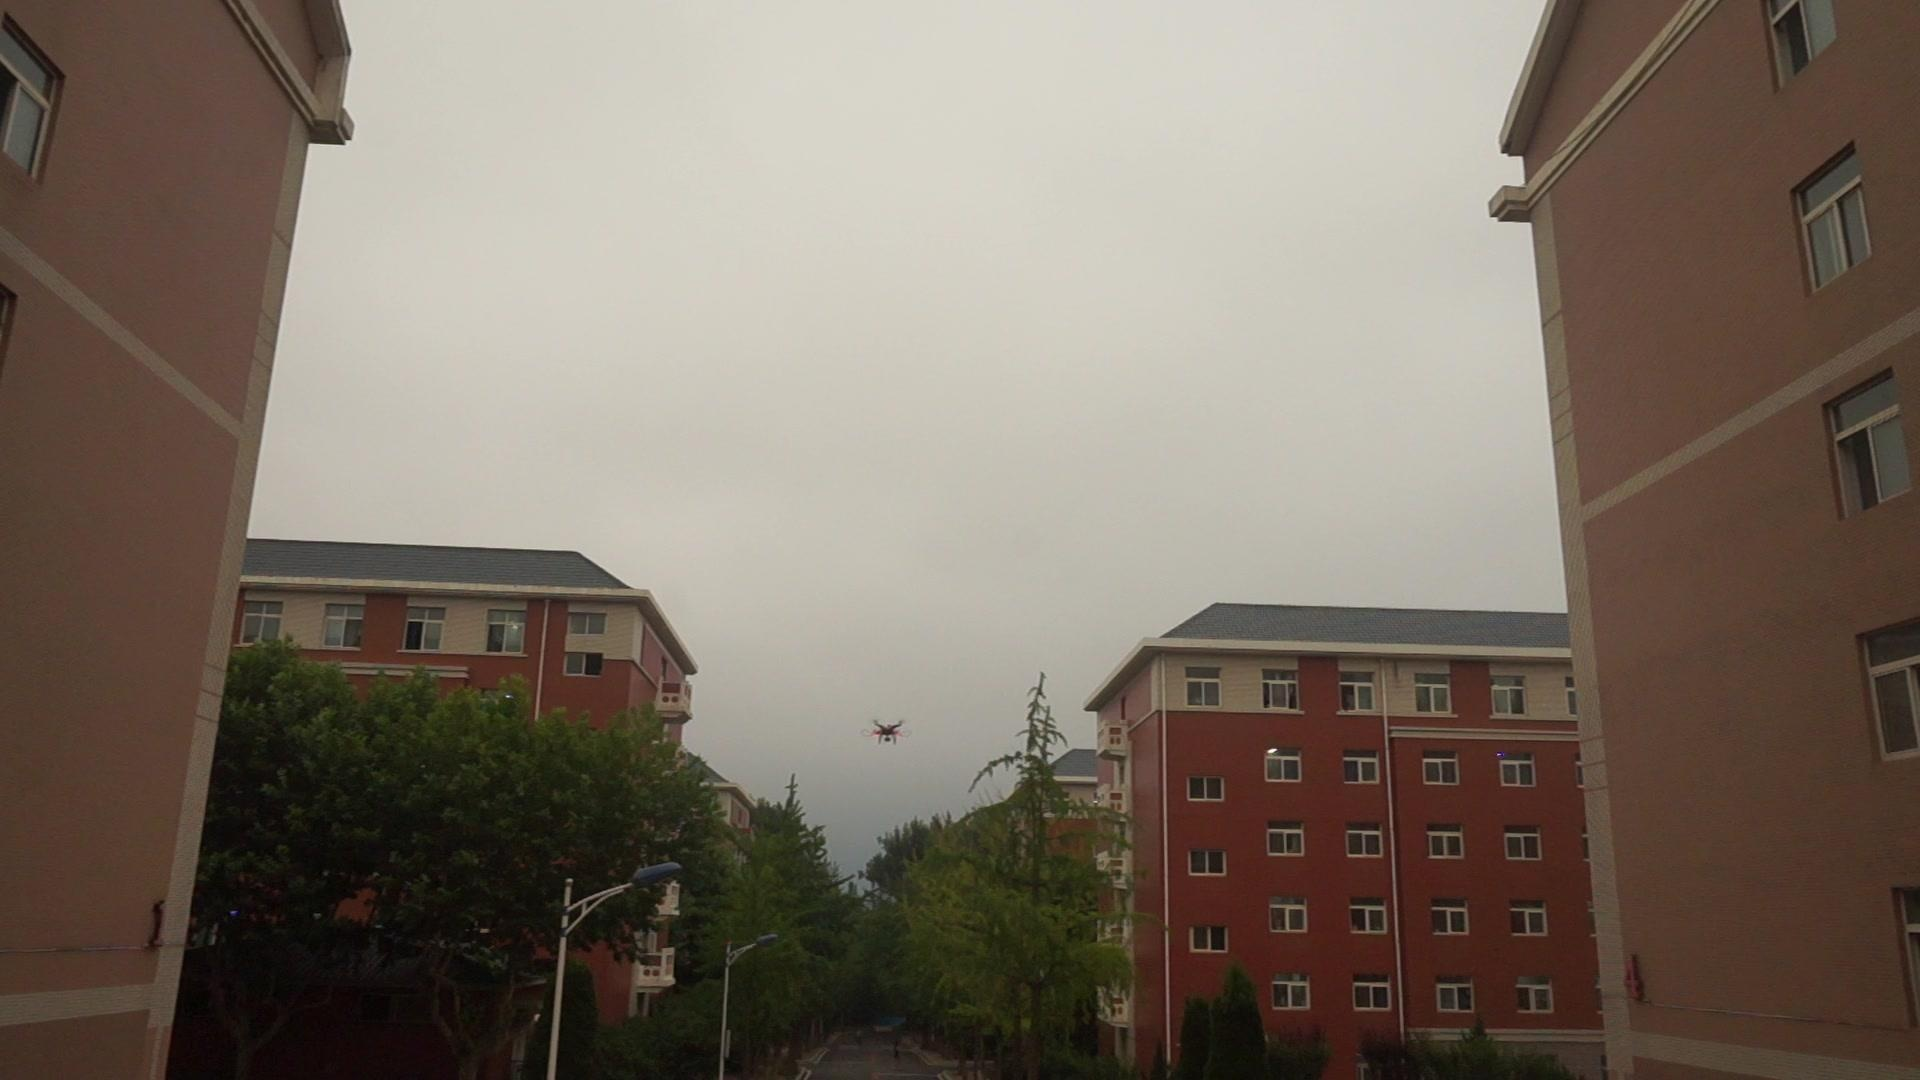UAV: (862, 721, 913, 745)
